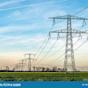power_tower: (47, 14, 88, 75)
